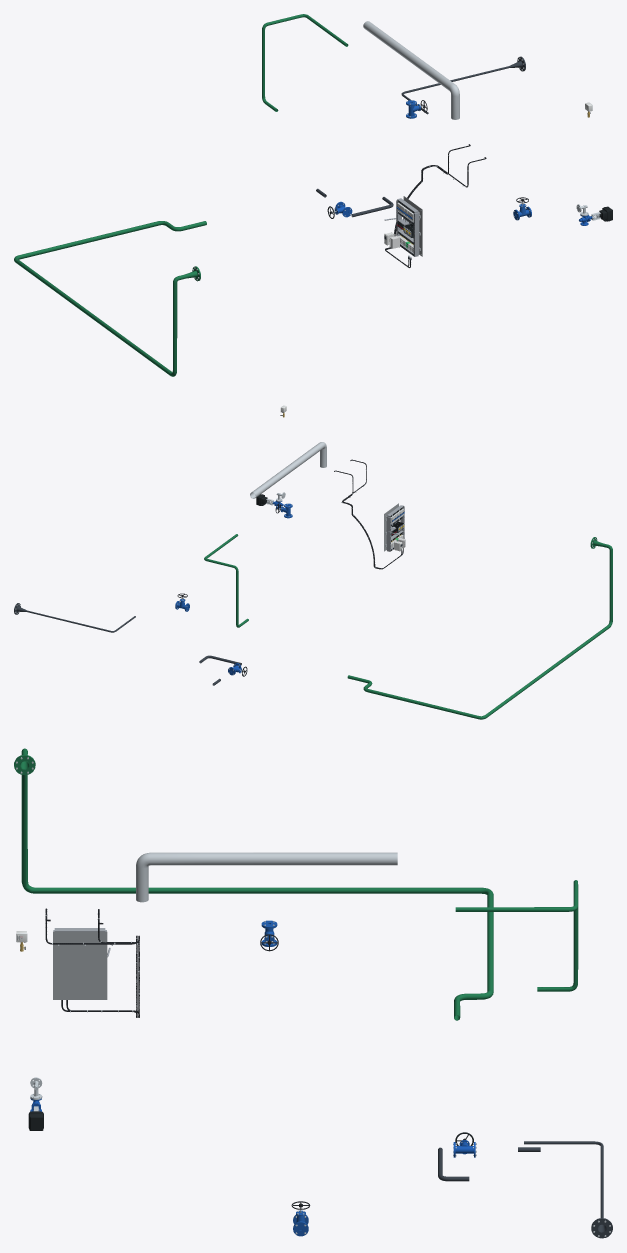
3 views of the same model, one above another, from view 1: azimuth 30°, elevation 25°; view 2: azimuth 150°, elevation 25°; view 3: azimuth 270°, elevation 25° (orthographic). The views are drawn at different scales.
Parts seen in each view (by area): view 1: deaerator_feed / green, cabinet_interior / cabinet_interior_0.npz, from_economizer / green, steam_delivery / steel, steam_rise / steel; view 2: deaerator_feed / green, cabinet_interior / cabinet_interior_0.npz, from_economizer / green; view 3: deaerator_feed / green, cabinet_interior / cabinet_interior_0.npz, steam_delivery / steel, steam_rise / steel, from_economizer / green, tds_to_fv / dark, gpz_bypass / steel.
Part boxes in pixels (x1=…): deaerator_feed / green: x1=14, y1=221, x2=206, y2=376; cabinet_interior / cabinet_interior_0.npz: x1=384, y1=196, x2=422, y2=256; from_economizer / green: x1=262, y1=14, x2=348, y2=111; steam_delivery / steel: x1=363, y1=21, x2=418, y2=64; steam_rise / steel: x1=429, y1=69, x2=459, y2=119; deaerator_feed / green: x1=347, y1=537, x2=612, y2=719; cabinet_interior / cabinet_interior_0.npz: x1=384, y1=503, x2=404, y2=551; from_economizer / green: x1=204, y1=534, x2=248, y2=627; deaerator_feed / green: x1=14, y1=748, x2=493, y2=1020; cabinet_interior / cabinet_interior_0.npz: x1=53, y1=928, x2=110, y2=999; steam_delivery / steel: x1=253, y1=852, x2=397, y2=865; steam_rise / steel: x1=136, y1=852, x2=207, y2=902; from_economizer / green: x1=455, y1=880, x2=578, y2=991; tds_to_fv / dark: x1=524, y1=1141, x2=612, y2=1238; gpz_bypass / steel: x1=207, y1=852, x2=253, y2=865.
Size of the model in its own units: 8.21 by 3.02 by 5.37.
